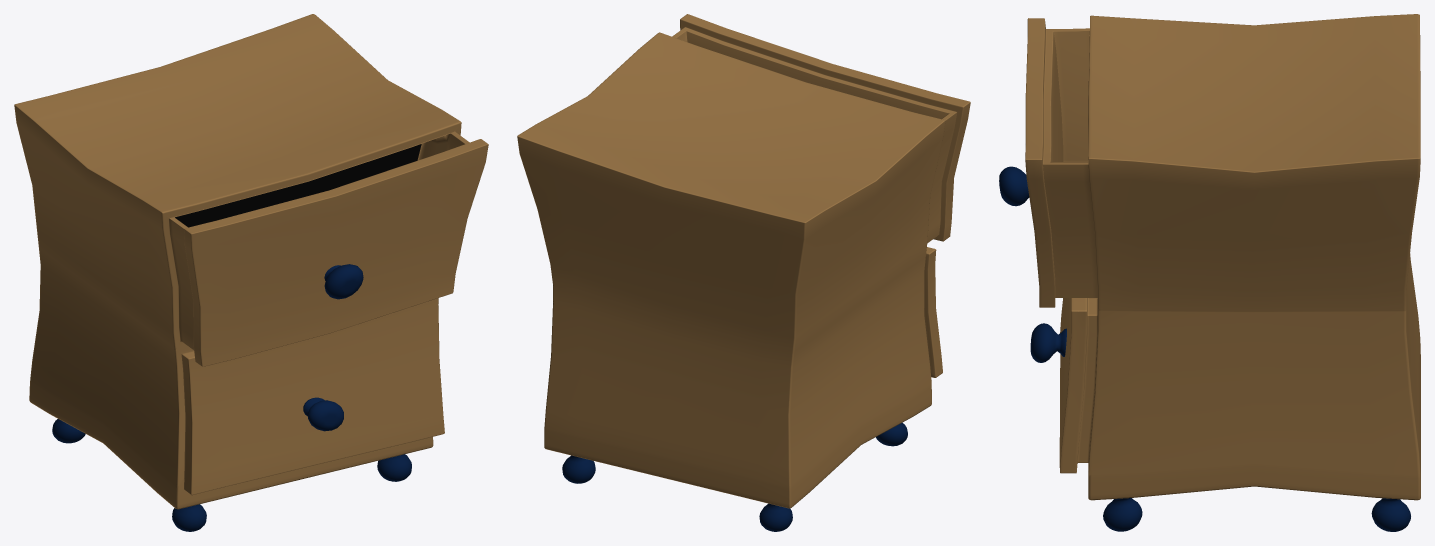
File: cartoon_drawers.glb
3 renders of one model, left to right at view 1: azimuth 30°, elevation 25°; view 2: azimuth 150°, elevation 25°; view 3: azimuth 270°, elevation 25°, orthographic. The views are drawn at different scales.
Visible parts, largest first — view 1: cartoon_drawers; view 2: cartoon_drawers; view 3: cartoon_drawers.
Boxes of the visible parts, <box> form: cartoon_drawers: <box>14,14,488,531</box>; cartoon_drawers: <box>517,14,970,531</box>; cartoon_drawers: <box>999,14,1420,531</box>.
Size of the model in its own units: 0.0256 by 0.0289 by 0.0277.
